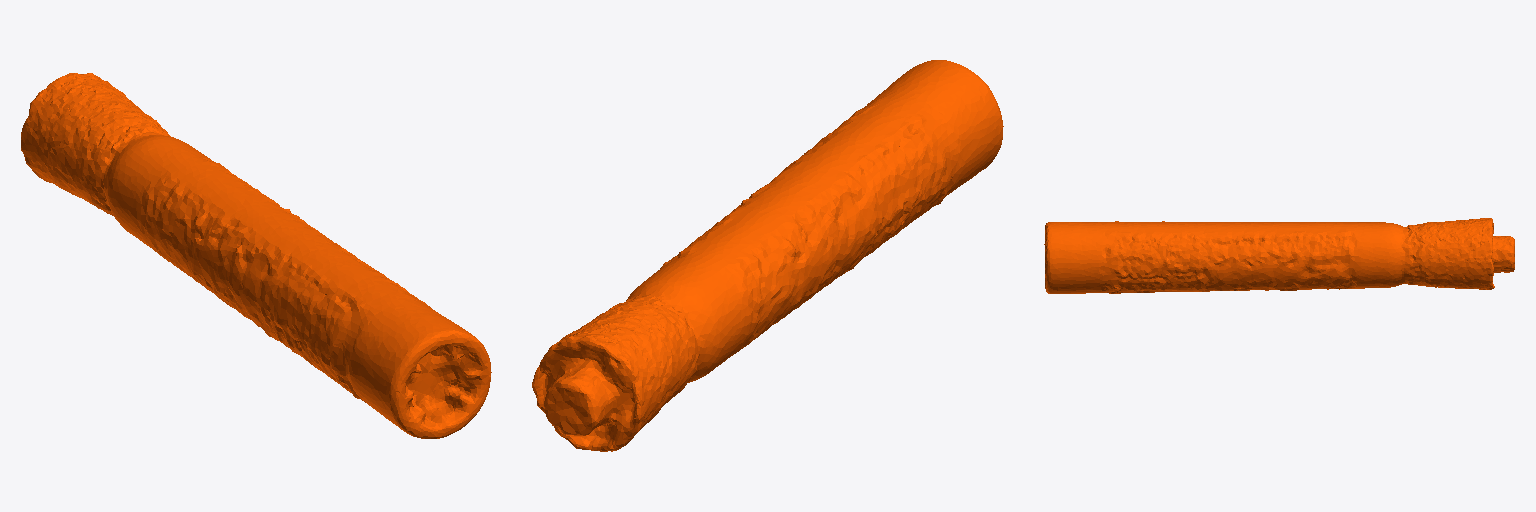
robot.urdf — 040_large_marker:
<?xml version="1.0" ?>
<robot name="040_large_marker">
   <material name="obj_color">
      <color rgba="1.0 0.423529411765 0.0392156862745 1.0"/>
   </material>
   <link name="top">
      <inertial>
         <origin rpy="2.083776690911661e-06 6.072314030336116e-05 6.073146300401067e-05" xyz="-0.0001193948012340821 -0.00447342723322686 -0.0004280630177848124"/>
         <mass value="0.05370389246179803"/>
         <inertia ixx="6.070075735017954e-05" ixy="1.219712667451142e-06" ixz="-3.343544584333734e-09" iyy="2.109173382984654e-06" iyz="-3.135661723979654e-08" izz="6.072844926511931e-05"/>
      </inertial>
      <visual>
         <origin rpy="0 0 0" xyz="0 0 0"/>
         <geometry>
            <mesh filename="top_watertight_tiny.stl" scale="1 1 1"/>
         </geometry>
         <material name="obj_color"/>
      </visual>
      <collision>
         <origin rpy="0 0 0" xyz="0 0 0"/>
         <geometry>
            <mesh filename="top_watertight_tiny.obj" scale="1 1 1"/>
         </geometry>
      </collision>
   </link>
   <link name="bottom">
      <inertial>
         <origin rpy="1.633333333199431e-08 1.633333333199431e-08 1.633333333362855e-08" xyz="0.3464080000000008 0.3464080000000008 0.3464080000000008"/>
         <mass value="0.0009800000000000017"/>
         <inertia ixx="1.633333333253906e-08" ixy="5.447480642029219e-19" ixz="5.447480642029219e-19" iyy="1.633333333253906e-08" iyz="5.447480642029219e-19" izz="1.633333333253906e-08"/>
      </inertial>
      <visual>
         <origin rpy="0 0 0" xyz="0 0 0"/>
         <geometry>
            <mesh filename="bottom_watertight_tiny.stl" scale="1 1 1"/>
         </geometry>
         <material name="obj_color"/>
      </visual>
   </link>
   <link name="world"/>
   <joint name="world_to_base" type="fixed">
      <origin xyz="0 0 0"/>
      <axis xyz="0 0 0"/>
      <parent link="world"/>
      <child link="bottom"/>
   </joint>
   <joint name="rotation" type="revolute">
      <origin xyz="0 0 0"/>
      <axis xyz="0 0 -1"/>
      <parent link="bottom"/>
      <child link="top"/>
      <dynamics damping="1.0" friction="1.0"/>
      <limit effort="0.1" velocity="0.1" lower="0" upper="0.001"/>
   </joint>
</robot>

--- Render facts (derived) ---
The picture shows the robot from 3 angles, left to right: view 1: azimuth 30°, elevation 25°; view 2: azimuth 150°, elevation 25°; view 3: azimuth 270°, elevation 25°; orthographic projection.
Model 040_large_marker with 3 links and 2 joints (1 revolute, 1 fixed), rooted at world, posed every joint at zero.
Links seen in each view (by area): view 1: top; view 2: top; view 3: top.
Link boxes in pixels (x1,y1,x2,y2): top: (21, 73, 491, 438); top: (532, 60, 1003, 451); top: (1044, 218, 1514, 293).
Bounding box of the posed robot: 0.021 × 0.121 × 0.0189 m (x, y, z).
Meshes: 2 distinct files referenced, 1 mesh visuals loaded (1 binary STL); not drawn: 1 (reference not matched to a file when rendering).
